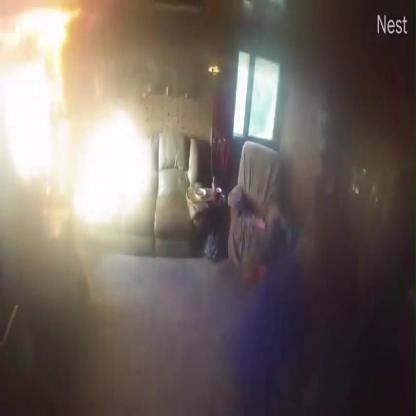fire: (0, 1, 76, 56)
